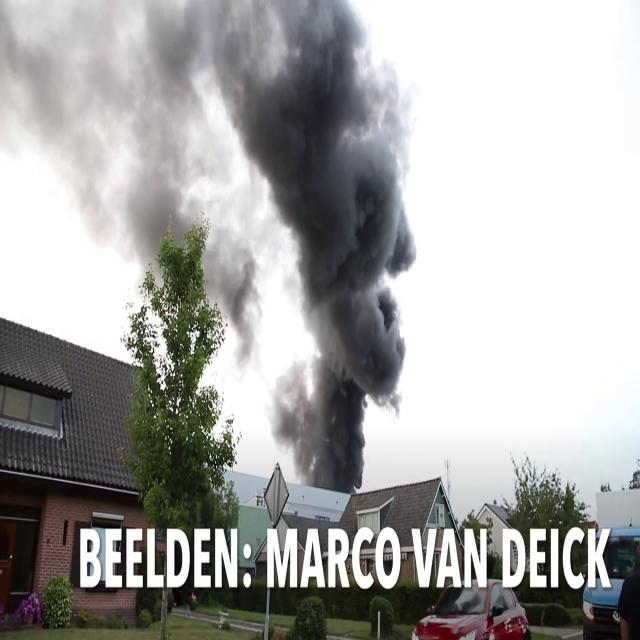Smoke: (218, 0, 432, 488), (0, 0, 234, 286)
